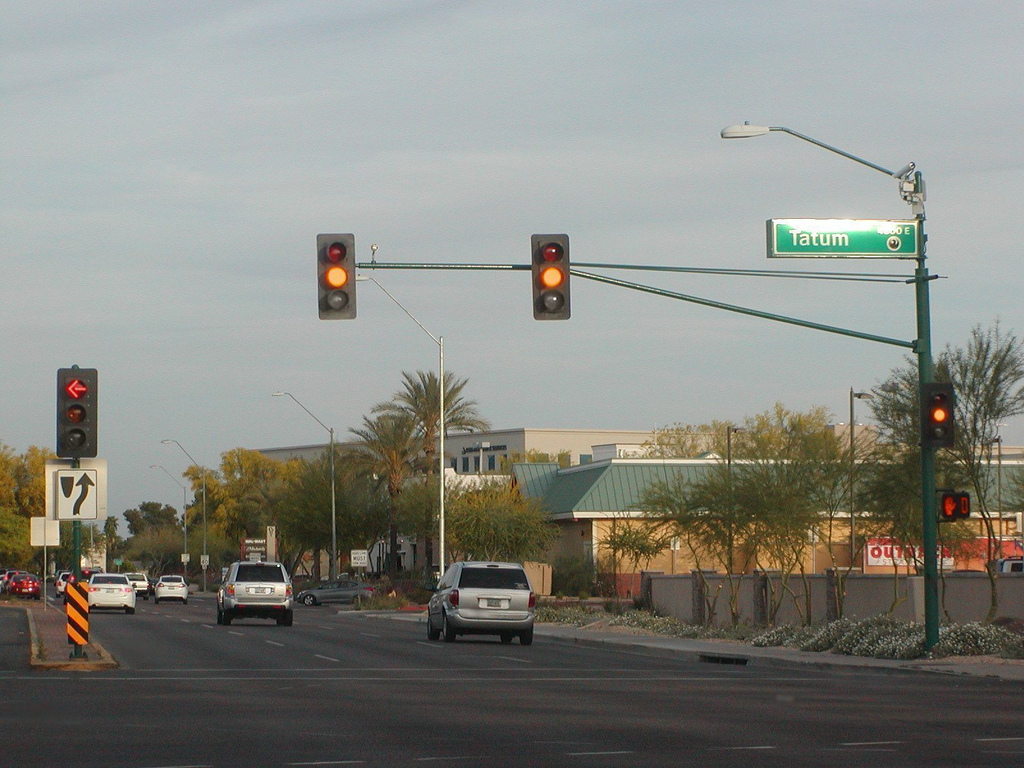traffic_light: (322, 238, 352, 313), (537, 239, 566, 315), (62, 375, 90, 451), (927, 389, 950, 442)
